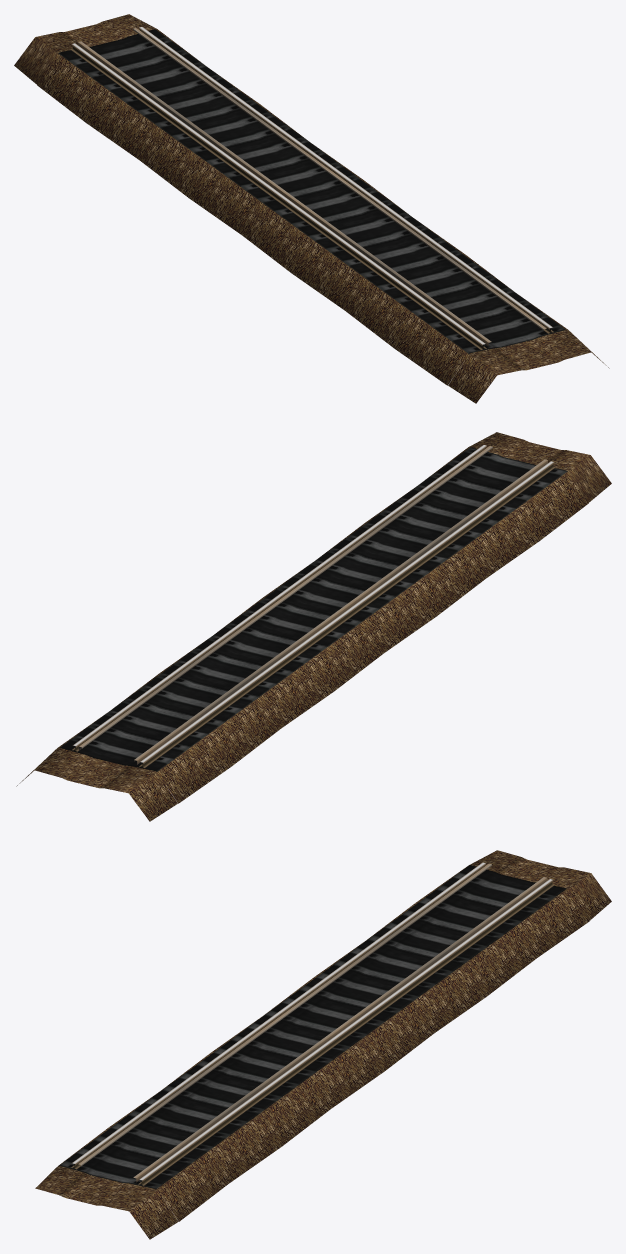
File: HQ_1RAIL_50.glb
The picture shows the model from 3 angles, top to bottom: view 1: azimuth 30°, elevation 25°; view 2: azimuth 150°, elevation 25°; view 3: azimuth 330°, elevation 25°; orthographic projection.
Parts seen in each view (by area): view 1: obj2, R000_RG_R1, R000_RG_L1; view 2: obj2, R000_RG_R1, R000_RG_L1; view 3: obj2, R000_RG_L1, R000_RG_R1.
Part boxes in pixels (x1,y1,x2,y2): obj2: [14, 14, 609, 403]; R000_RG_R1: [78, 41, 491, 346]; R000_RG_L1: [133, 28, 546, 330]; obj2: [16, 432, 611, 821]; R000_RG_R1: [134, 459, 547, 764]; R000_RG_L1: [78, 446, 492, 750]; obj2: [35, 850, 611, 1239]; R000_RG_L1: [133, 877, 547, 1182]; R000_RG_R1: [78, 863, 491, 1166].
Size of the model in its own units: 10.12 by 2.22 by 56.25.
Materials: 6 (5 with a texture image).
